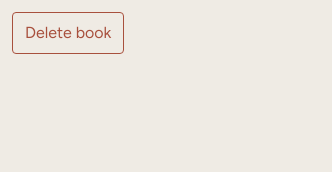
Test case: DeleteBookButton › clicking Delete book shows a confirm step instead of calling the API immediately
Click the button "Delete book" at (68, 33), box x1=12 y1=12 x2=124 y2=54
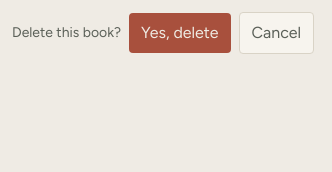
Now the button "Yes, delete" is shown, box x1=129 y1=13 x2=231 y2=53
Now the button "Cancel" is shown, box x1=239 y1=12 x2=314 y2=54
